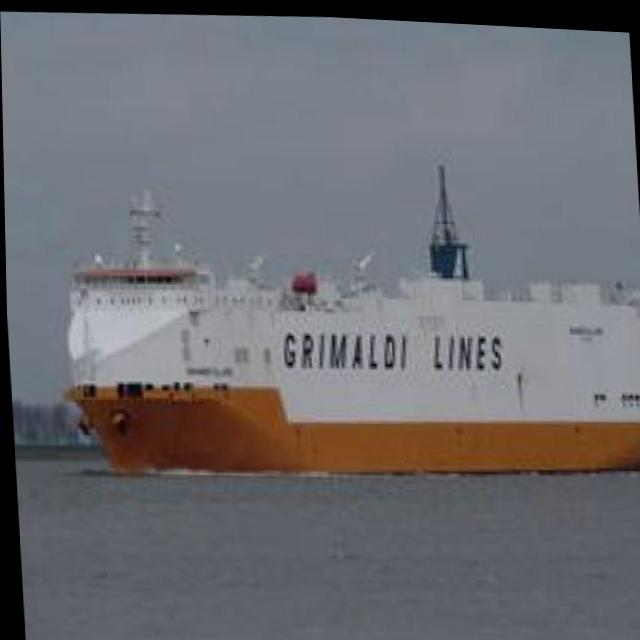ship2: (62, 155, 640, 476)
